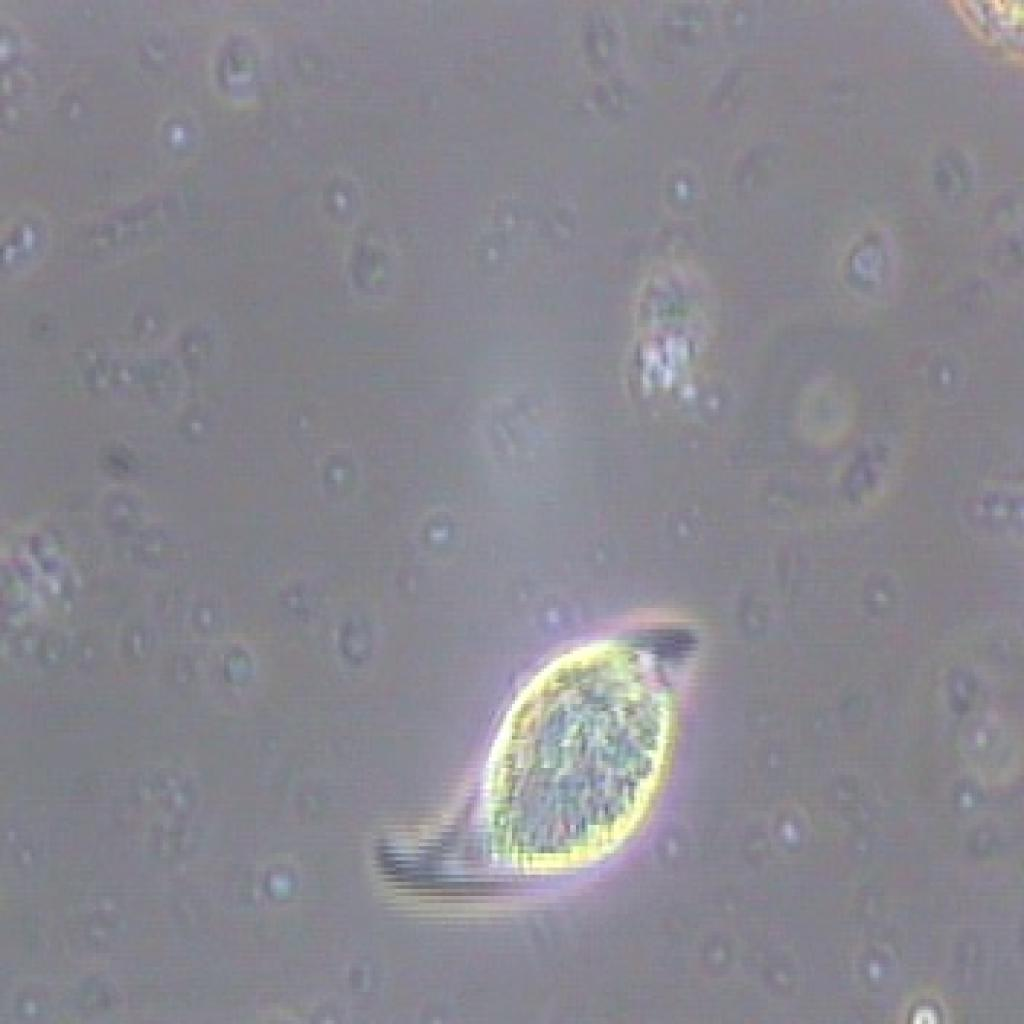Pristina: (350, 562, 723, 924)
